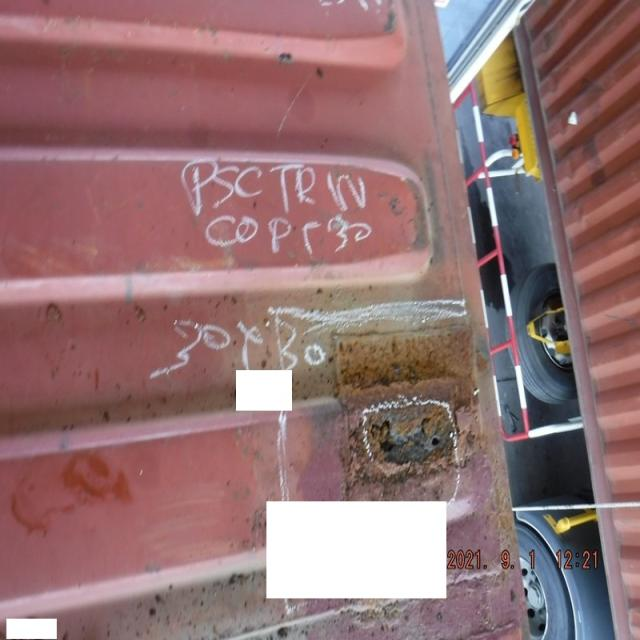rust: (352, 396, 472, 486), (339, 334, 481, 394)
